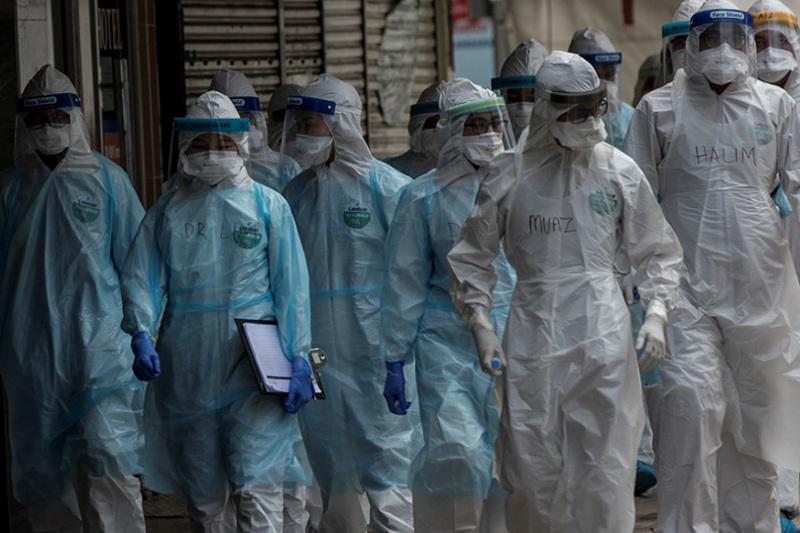Coverall: (471, 52, 668, 533), (641, 1, 794, 533), (129, 93, 311, 533), (1, 61, 154, 531), (281, 79, 417, 533), (381, 78, 513, 533)
Gloves: (124, 329, 162, 384)
Goggles: (472, 328, 511, 384), (634, 311, 669, 373), (283, 356, 315, 420), (381, 359, 416, 415)
with_mask: (180, 137, 247, 190), (697, 41, 752, 91), (552, 112, 611, 152), (27, 112, 73, 161), (460, 124, 507, 163), (293, 124, 330, 172)
